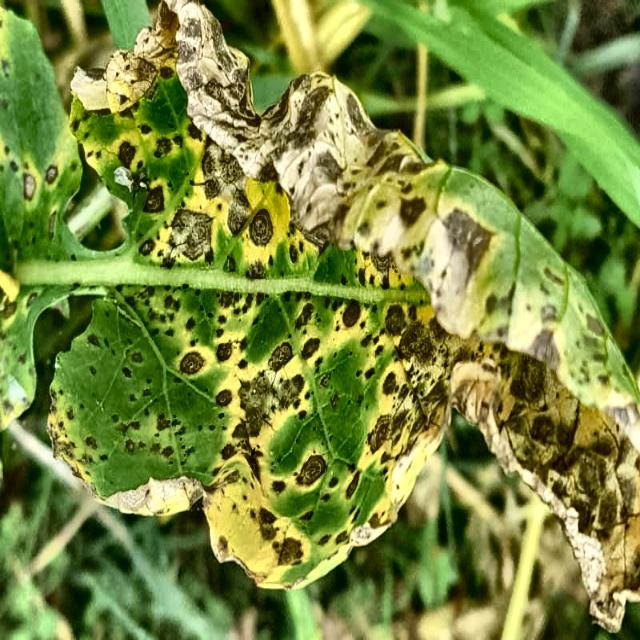leaf_spot: (66, 209, 550, 525)
